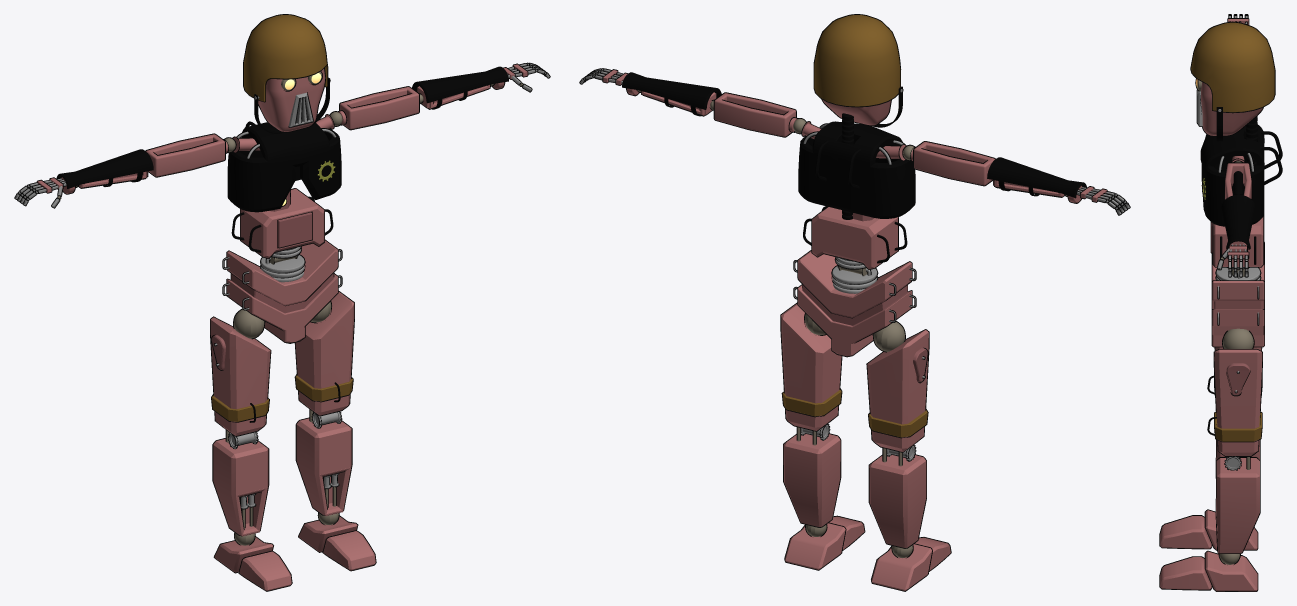
Rendered from Robot2M.fbx.
3 views of the same model, side by side, from view 1: azimuth 30°, elevation 25°; view 2: azimuth 150°, elevation 25°; view 3: azimuth 270°, elevation 25° (orthographic). The views are drawn at different scales.
Parts seen in each view (by area): view 1: Circle; view 2: Circle; view 3: Circle.
Boxes of the visible parts, bbox=[...] form: Circle: bbox=[14, 14, 550, 591]; Circle: bbox=[579, 14, 1130, 591]; Circle: bbox=[1159, 14, 1282, 591].
Bounding box in the file's own units: 428 × 414 × 86.3.
